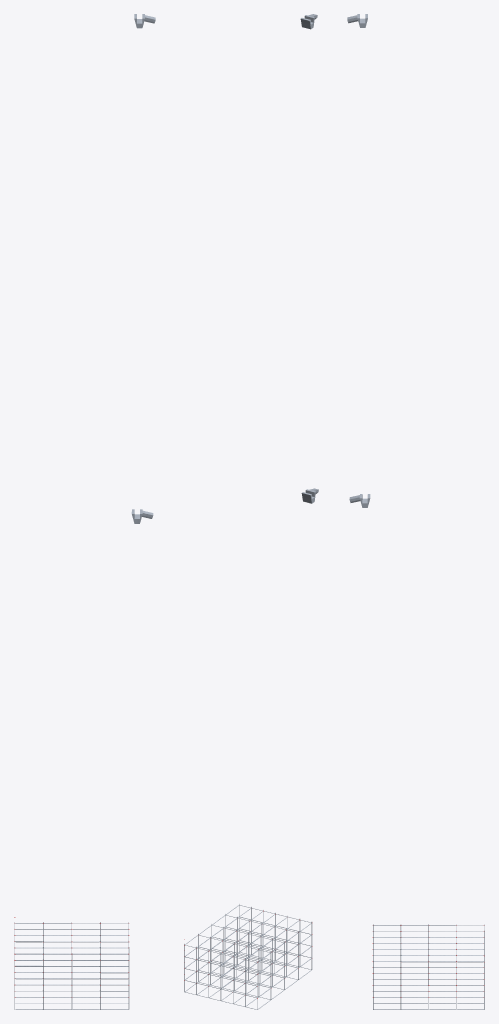
The model's file is 4_6scafolding.glb.
The picture shows the model from 3 angles, left to right: view 1: azimuth 90°, elevation 25°; view 2: azimuth 150°, elevation 25°; view 3: azimuth 270°, elevation 25°; orthographic projection. The views are drawn at different scales.
Size of the model in its own units: 6.43 by 78.76 by 10.21.
68 materials, 52 textured.
